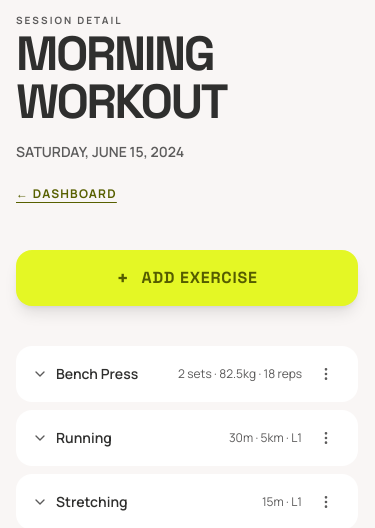
Test: Workout › shows Duplicate option in exercise 3-dot menu
Click the button named "exercise options" next to "2 sets · 82.5kg · 18 reps" at x=326, y=374, box [310, 358, 342, 390]
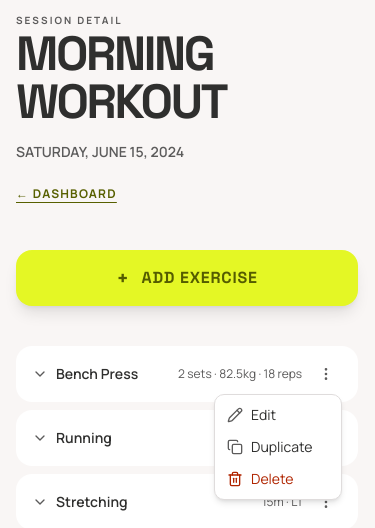
Now the menu item "Duplicate" is shown, box [227, 437, 312, 456]
